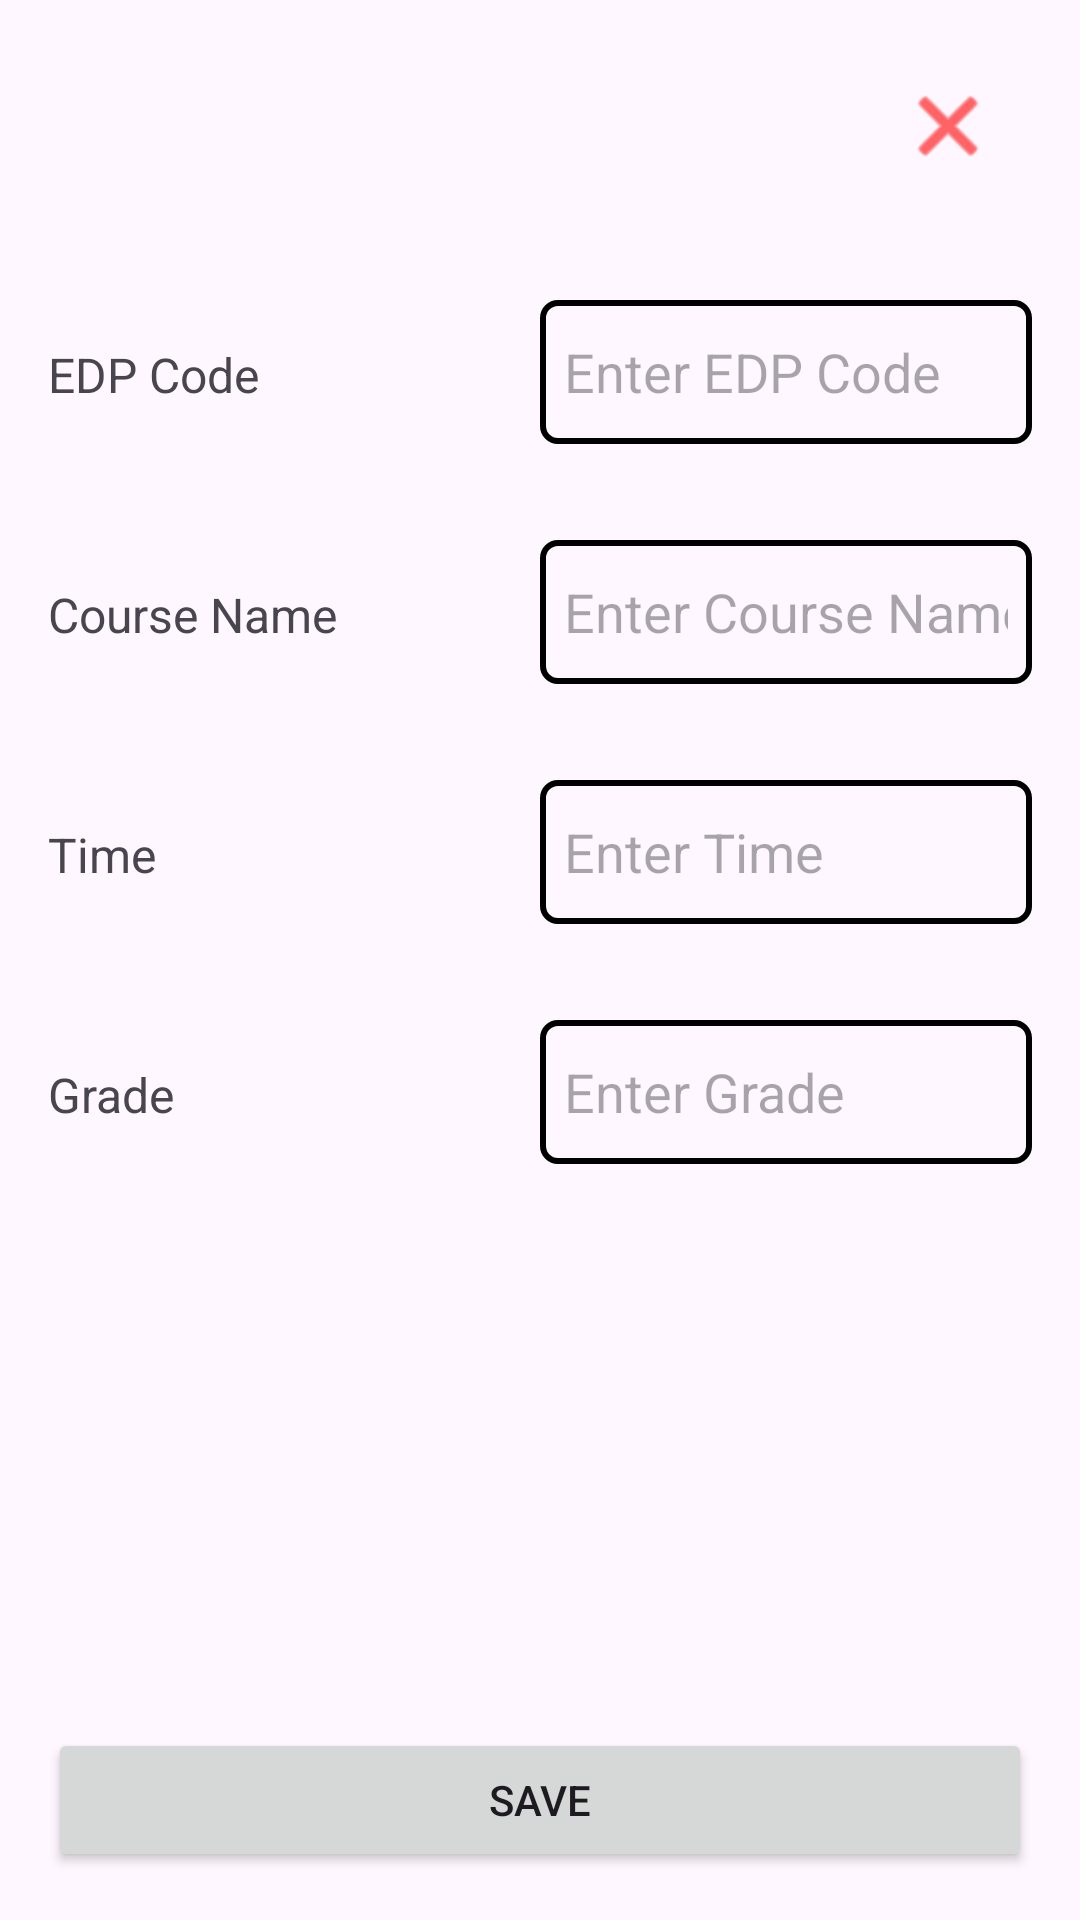

Point at icon controls on the screen. Image size 1080×1920, points as [x,y].
close clear cancel: [948,126]
